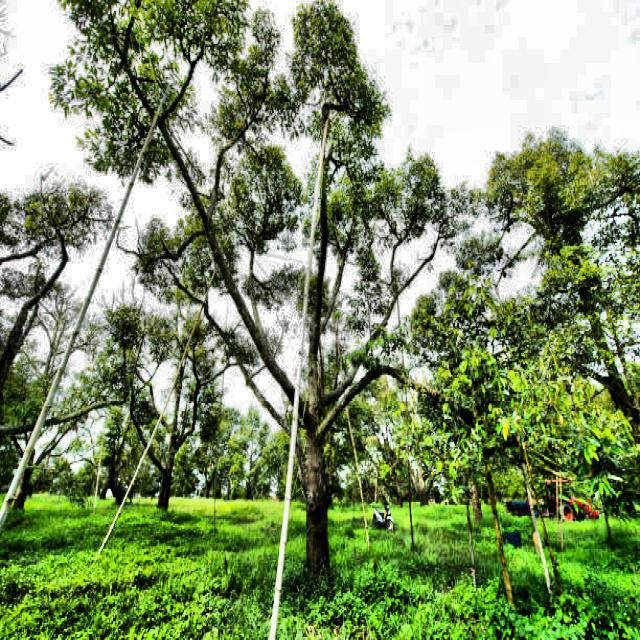arvore: (291, 270, 346, 574), (157, 353, 180, 540)
